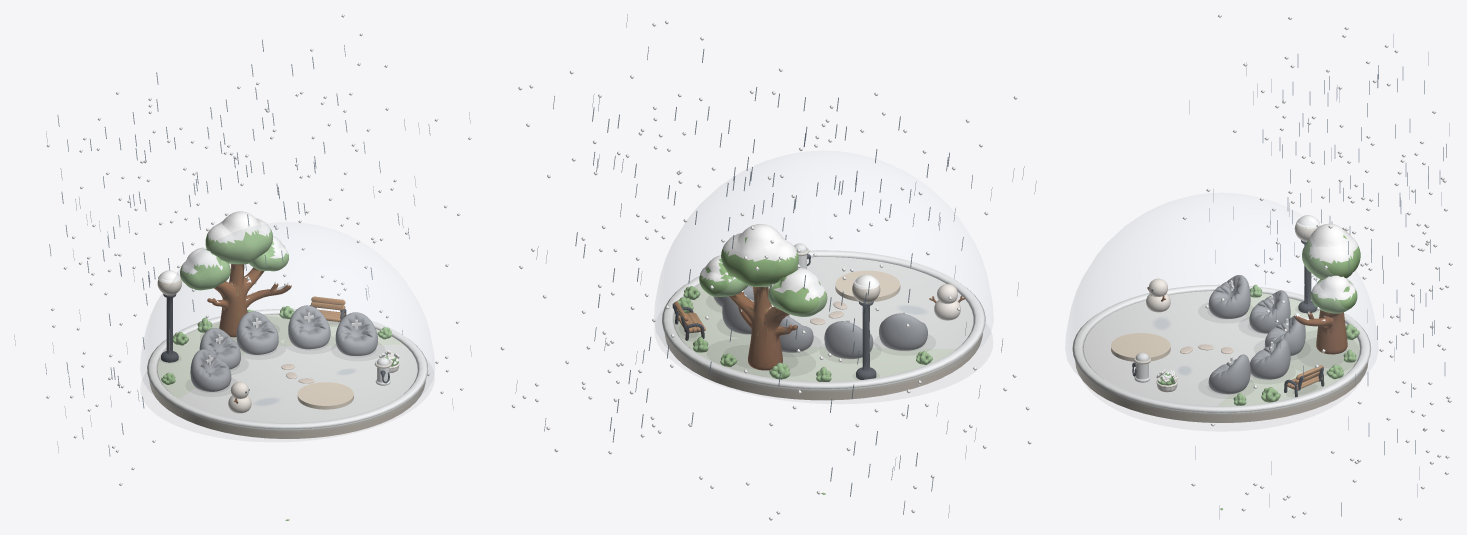
File: plaza_scene.glb
The picture shows the model from 3 angles, left to right: view 1: azimuth 30°, elevation 25°; view 2: azimuth 150°, elevation 25°; view 3: azimuth 270°, elevation 25°; orthographic projection. The views are drawn at different scales.
Parts seen in each view (by area): view 1: dome, plate, snow_rim, tree_crown, rim, lawn, tree_trunk, snow_tree, rain_a, snowfx_a, cushion5, cushion4 (+7 smaller); view 2: dome, plate, lawn, snow_rim, tree_crown, rim, snow_tree, tree_trunk, rain_a, snowfx_a, cushion1, cushion2 (+6 smaller); view 3: dome, plate, snow_rim, lawn, rim, snow_tree, rain_a, snowfx_a, tree_crown, cushion1, tree_trunk, talk (+7 smaller).
Part boxes in pixels (x1,y1,x2,y2): dome: (140, 222, 434, 431); plate: (153, 344, 422, 430); snow_rim: (147, 308, 428, 428); tree_crown: (180, 229, 288, 290); rim: (149, 380, 425, 438); lawn: (157, 314, 403, 398); tree_trunk: (207, 264, 291, 337); snow_tree: (181, 211, 287, 274); rain_a: (14, 39, 471, 456); snowfx_a: (46, 14, 471, 485); cushion5: (335, 312, 377, 355); cushion4: (288, 305, 330, 349); dome: (654, 151, 992, 391); plate: (668, 257, 977, 390); lawn: (674, 286, 955, 381); snow_rim: (662, 250, 985, 388); tree_crown: (699, 237, 827, 316); rim: (664, 332, 982, 400); snow_tree: (700, 224, 825, 300); tree_trunk: (729, 286, 797, 370); rain_a: (515, 14, 1036, 517); snowfx_a: (500, 20, 1031, 520); cushion1: (879, 313, 927, 350); cushion2: (824, 321, 873, 358); dome: (1065, 193, 1377, 414); plate: (1077, 291, 1365, 413); snow_rim: (1072, 284, 1371, 412); lawn: (1217, 293, 1359, 406); rim: (1075, 360, 1368, 422); snow_tree: (1308, 223, 1358, 300); rain_a: (1189, 34, 1449, 518); snowfx_a: (1182, 14, 1452, 520); tree_crown: (1302, 235, 1360, 313); cushion1: (1208, 275, 1250, 318); tree_trunk: (1294, 310, 1347, 354); talk: (1111, 333, 1170, 361).
Size of what is drawn, in the model's own units: 12.38 by 13.05 by 11.01.
Materials: 34 (16 with a texture image).
